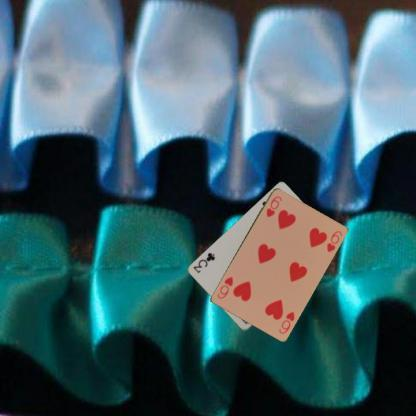6h: (276, 308, 296, 336), (264, 192, 284, 218)
